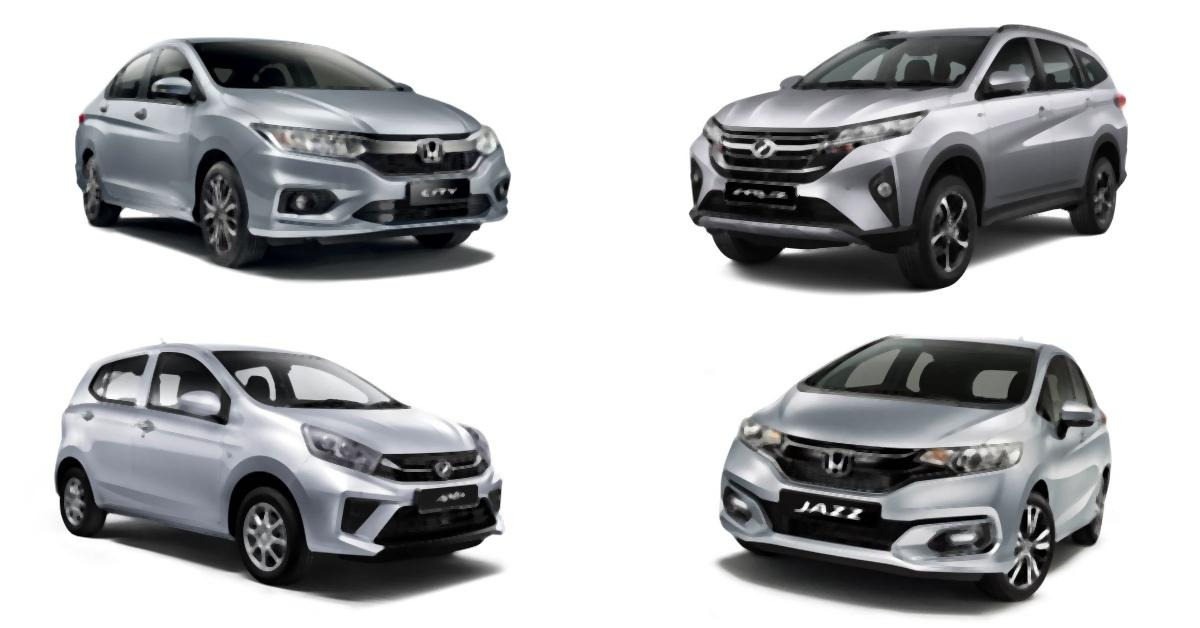Car hood: (751, 382, 1027, 453), (220, 84, 485, 139), (713, 83, 955, 134), (281, 402, 483, 456)
Driver-s door - -F-R-: (139, 345, 220, 531), (138, 42, 191, 218)
Fender - -F-L-: (909, 76, 992, 218), (983, 408, 1054, 528)
Fender - -F-R-: (220, 398, 315, 533), (188, 79, 264, 220)
Fender - -R-L-: (1097, 98, 1127, 153)
Fender - -R-R-: (79, 97, 109, 200), (63, 414, 87, 471)
Front bumper: (715, 464, 1036, 577), (243, 143, 520, 247), (683, 141, 942, 247), (290, 459, 514, 563)
Headlight - -L-: (822, 104, 932, 154), (913, 437, 1029, 481), (458, 421, 500, 474), (470, 120, 503, 163)
Headlight - -R-: (297, 421, 388, 480), (246, 120, 367, 164), (732, 412, 788, 460), (692, 112, 730, 149)
Passenger-s door - -F-L-: (991, 28, 1054, 216), (1042, 351, 1086, 526)
Passenger-s door - -R-L-: (1049, 27, 1103, 203), (1074, 349, 1104, 523)
Passenger-s door - -R-R-: (80, 347, 141, 513), (97, 43, 149, 212)
Rear bumper: (1106, 139, 1139, 190)
Rear light - -L-: (1109, 83, 1130, 114)
Rear light - -R-: (74, 93, 89, 134)
Side bumper - -L-: (978, 178, 1094, 231), (1047, 499, 1104, 542)
Side bumper - -R-: (84, 487, 239, 543), (96, 178, 197, 226)
Side mirror - -L-: (1051, 396, 1098, 446), (985, 66, 1032, 103)
Side mirror - -R-: (170, 384, 224, 427), (145, 73, 196, 108), (775, 68, 815, 98)
